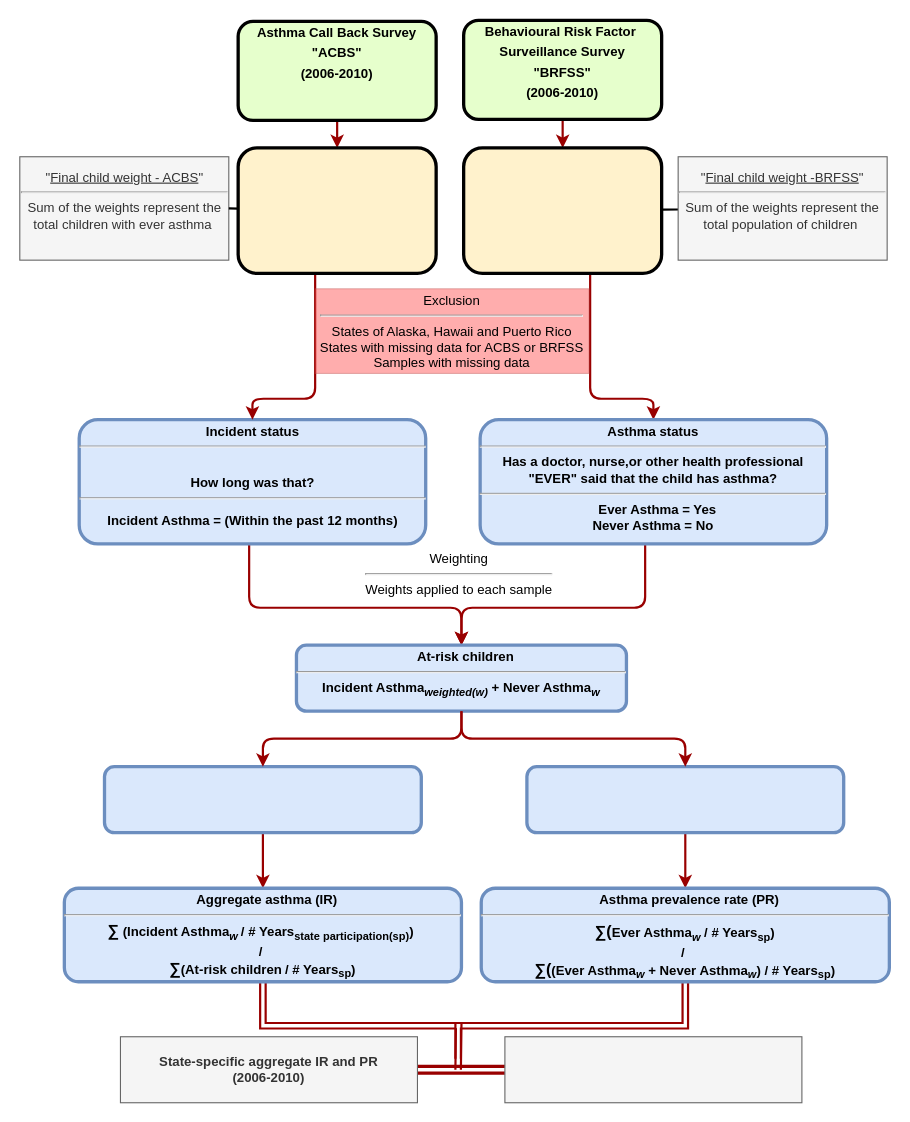
Some shapes in this 910 by 1122 pixel diagram are drawn without their labels. The box of each missing label's shape, as (x1, y1, x2, y2) in pixels:
Aggregate IR and PR (2006-2010): (504, 1036, 802, 1103)
Asthma incidence rate (IR) Incident Asthma w / At-risk children: (102, 765, 422, 834)
Asthma prevalence rate (PR) Ever Asthma w / (Ever Asthma w + Never Asthma w ): (525, 765, 845, 834)
Variables Selected State Asthma status Final child weight: (461, 146, 663, 274)
Variables Selected State Incident status Final child weight: (236, 146, 437, 274)
